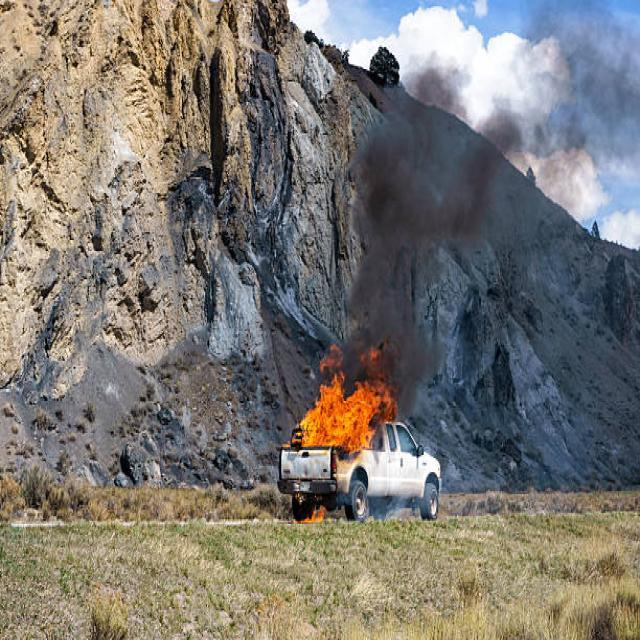Fire: (295, 346, 393, 447), (299, 504, 326, 524)
Smoke: (327, 68, 496, 407)
